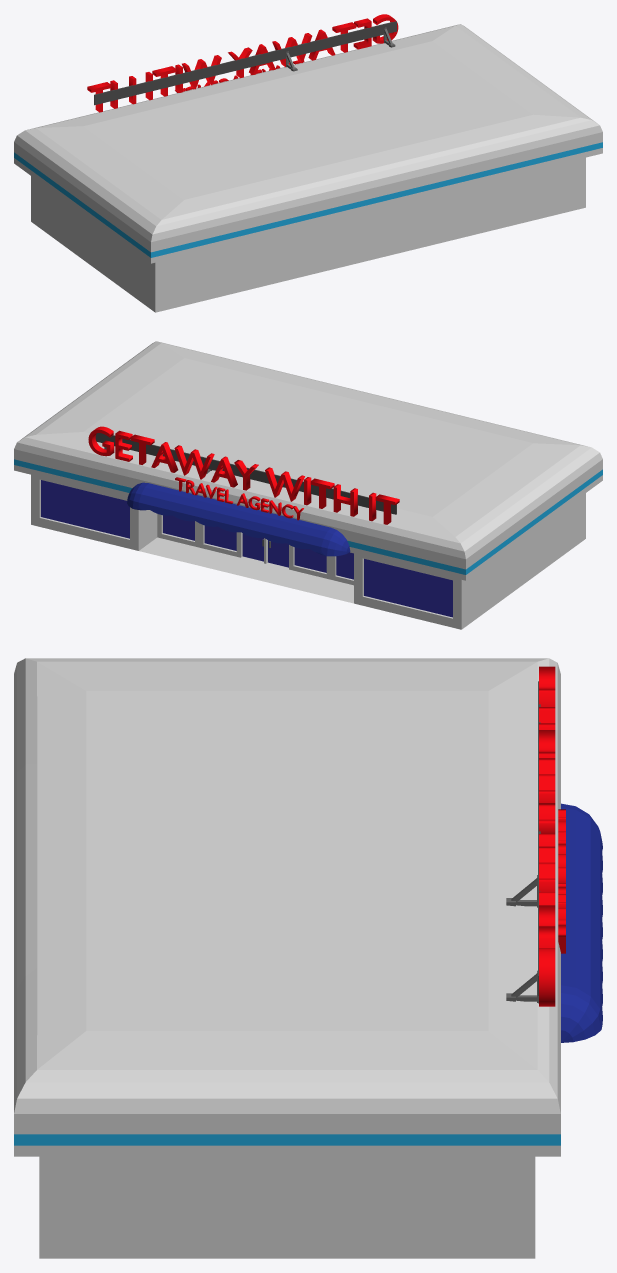
File: Travel Agency Building.glb
3 views of the same model, one above another, from view 1: azimuth 30°, elevation 25°; view 2: azimuth 150°, elevation 25°; view 3: azimuth 270°, elevation 25° (orthographic). The views are drawn at different scales.
Visible parts, largest first — view 1: Plane, Cube, Text; view 2: Plane, Text, Cube, Text.001; view 3: Plane, Text, Text.001.
Boxes of the visible parts, x1,y1,x2,y2 form: Plane: [14, 24, 602, 312]; Cube: [94, 21, 396, 105]; Text: [87, 14, 398, 112]; Plane: [14, 341, 602, 629]; Text: [88, 426, 399, 524]; Cube: [95, 433, 396, 514]; Text.001: [175, 477, 303, 520]; Plane: [14, 658, 602, 1258]; Text: [539, 666, 555, 1006]; Text.001: [558, 809, 565, 953].
Bounding box in the file's own units: 42 × 10.37 × 23.75.
